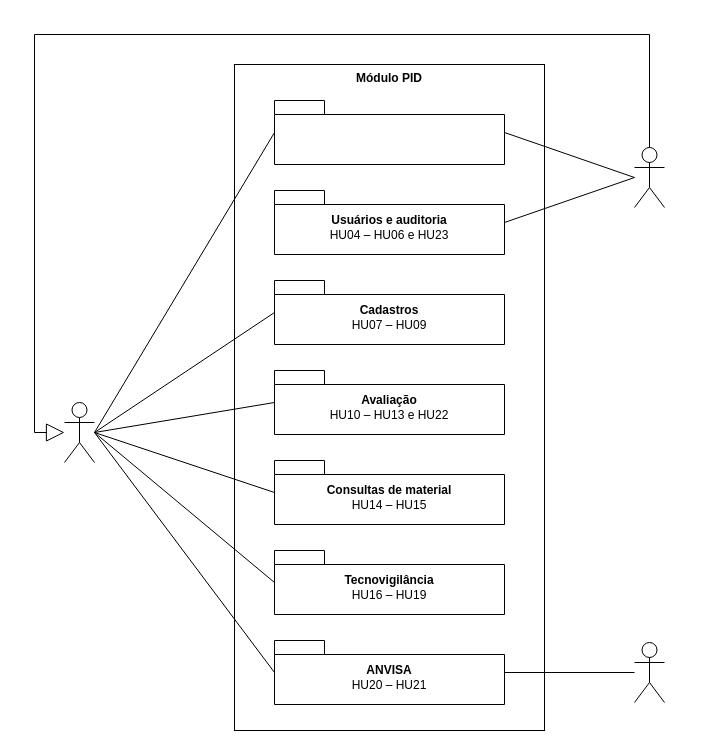
Some shapes in this 704 by 748 pixel diagram are drawn without their labels. Each missing label, with the centre of its shape:
Acesso HU01 – HU03: the point at 389,132
Administrador: the point at 649,177
Agendador: the point at 649,672
Analista: the point at 79,432
